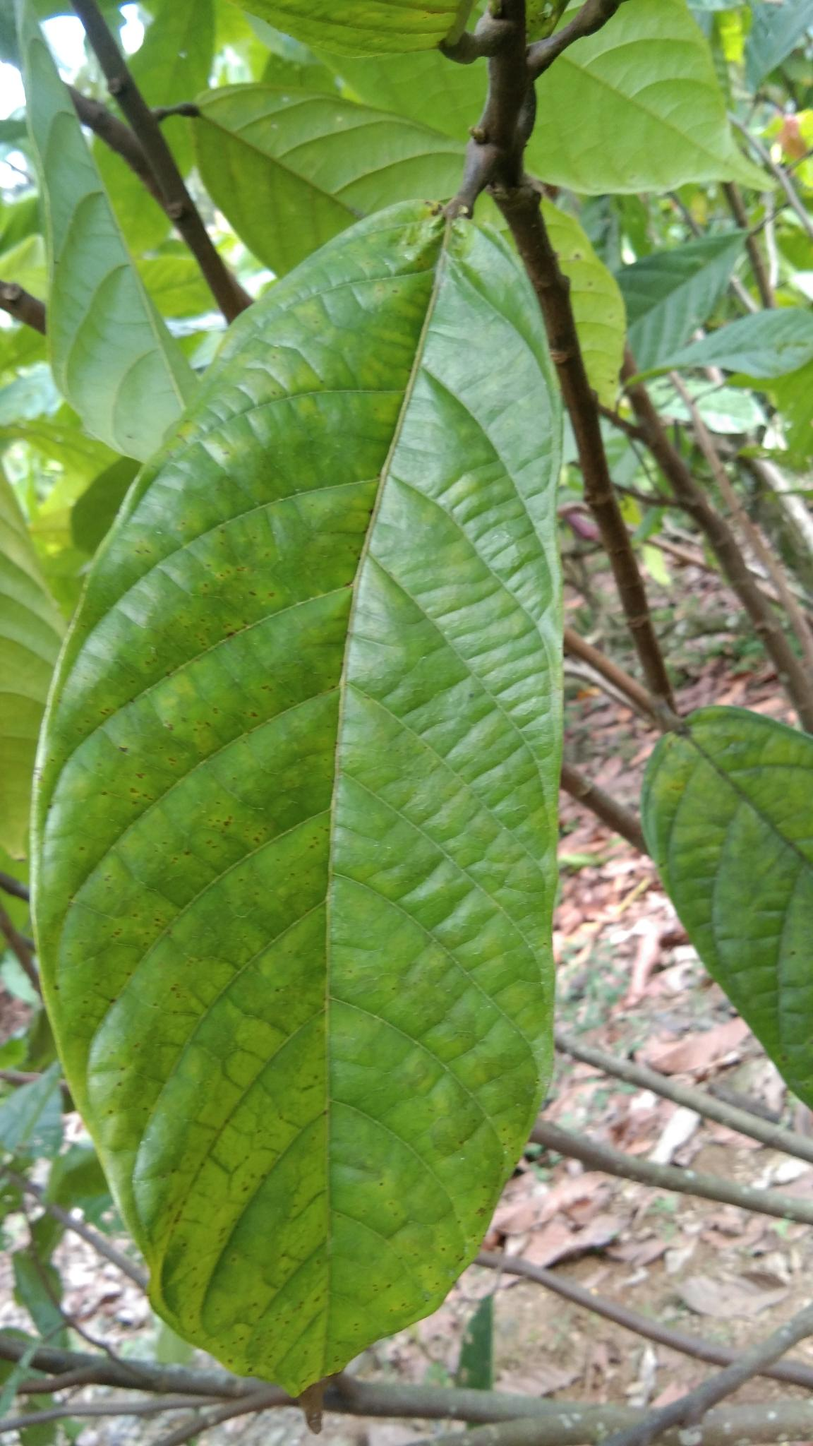Fosforo: (10, 140, 578, 1446)
